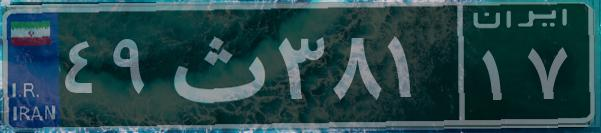1: (385, 28, 445, 110), (475, 38, 525, 113)
3: (273, 28, 330, 110)
4: (57, 26, 110, 107)
7: (525, 38, 570, 115)
8: (330, 28, 385, 110)
9: (110, 28, 158, 105)
ث: (158, 15, 273, 115)
